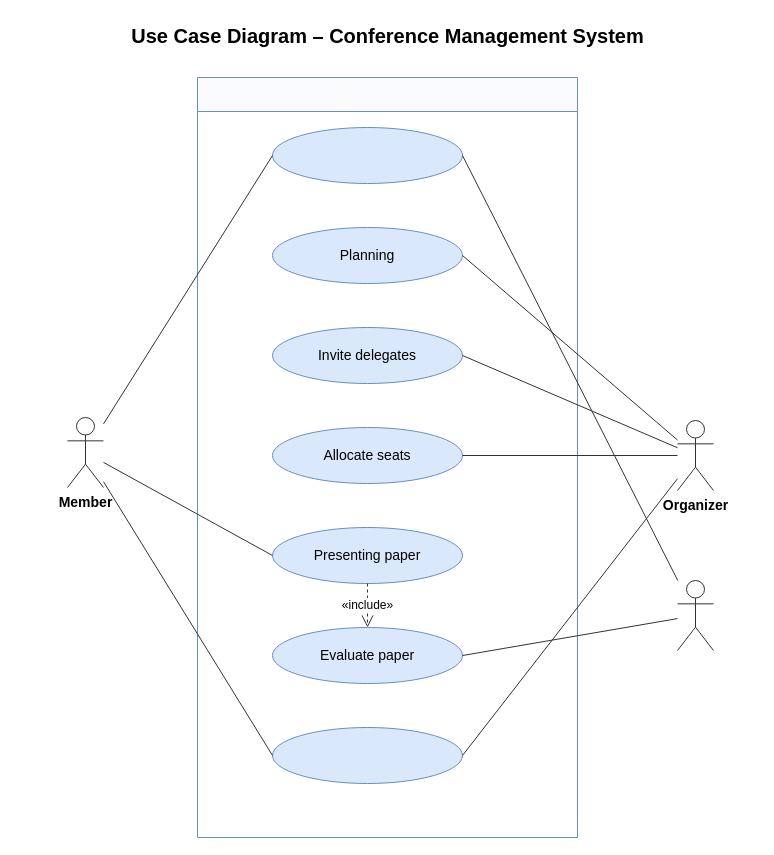
Image size: 774x855. Some labels were removed from this diagram. The shapes that lost their labels are listed below. From the top down, each one's box as (x1, y1, x2, y2) in pixels, then its label:
(272, 126, 462, 184): Register
(196, 76, 578, 838): Conference Management System
(676, 580, 714, 650): Central System
(272, 726, 462, 784): Prize distribution
